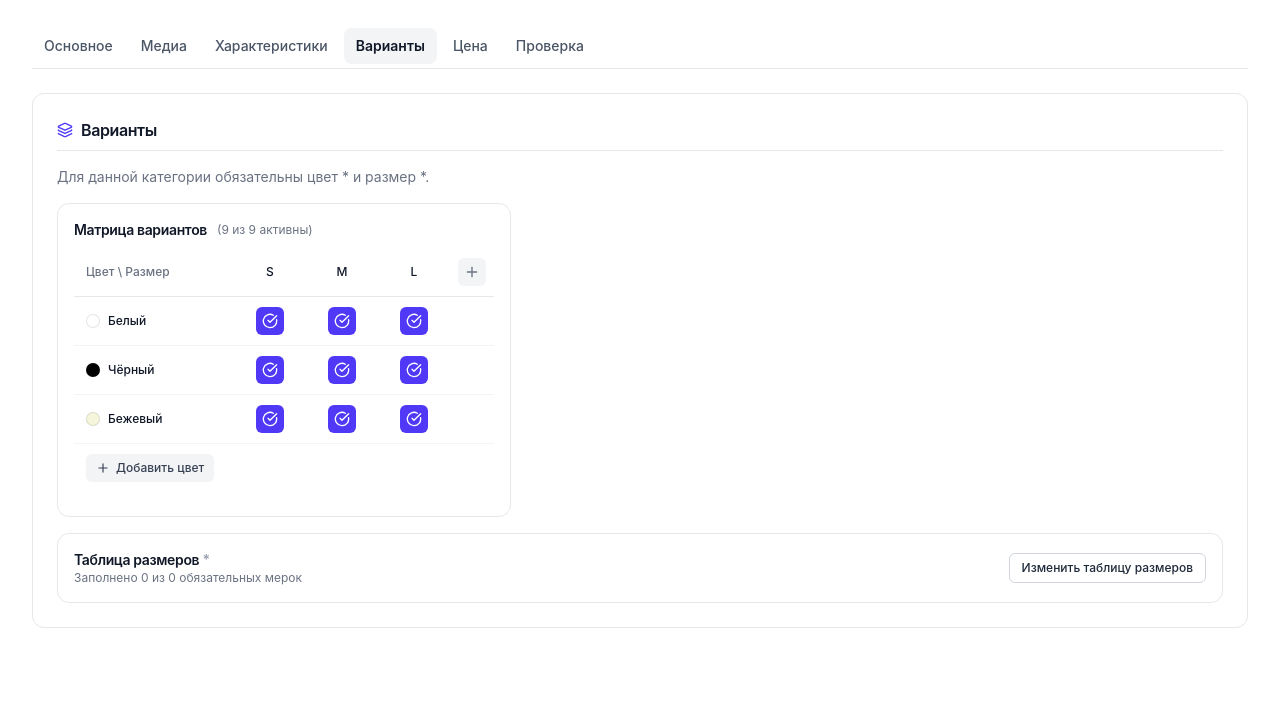
it: ProductStudioFormWorkspace - Variant Editing Parity (PS.R4B3.1C4C3B3A) › 8. PS.R4B3.1C4C3B3C — Category Prominence + Matrix Layout Polish (Sections 20, 21, 22) › 21. Matrix compact geometry: w-fit max-w-full, compact columns, "Добавить цвет" label, and active count badge
Expected: the element with test id "form-matrix-editor-section" is shown, x1=57 y1=203 x2=511 y2=517
Expected: the column heading with test id "matrix-add-size-btn" is shown, x1=450 y1=248 x2=494 y2=296
Toggling one cell OFF updates active count to "8 из 9 активны"
Click the button with test id "form-matrix-cell-col-white-sz-s": (270, 321) x1=256 y1=307 x2=284 y2=335
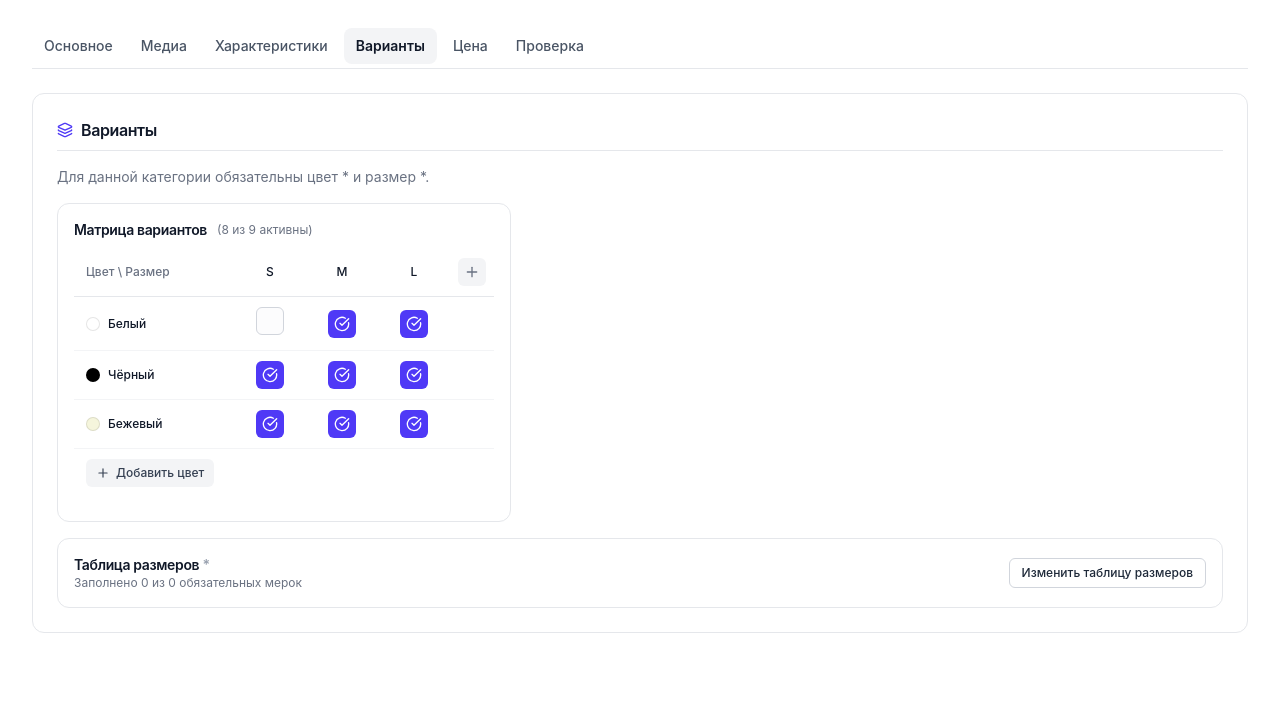
Expected: the text with test id "matrix-active-count-badge" shows "8 из 9 активны", x1=217 y1=222 x2=313 y2=238
